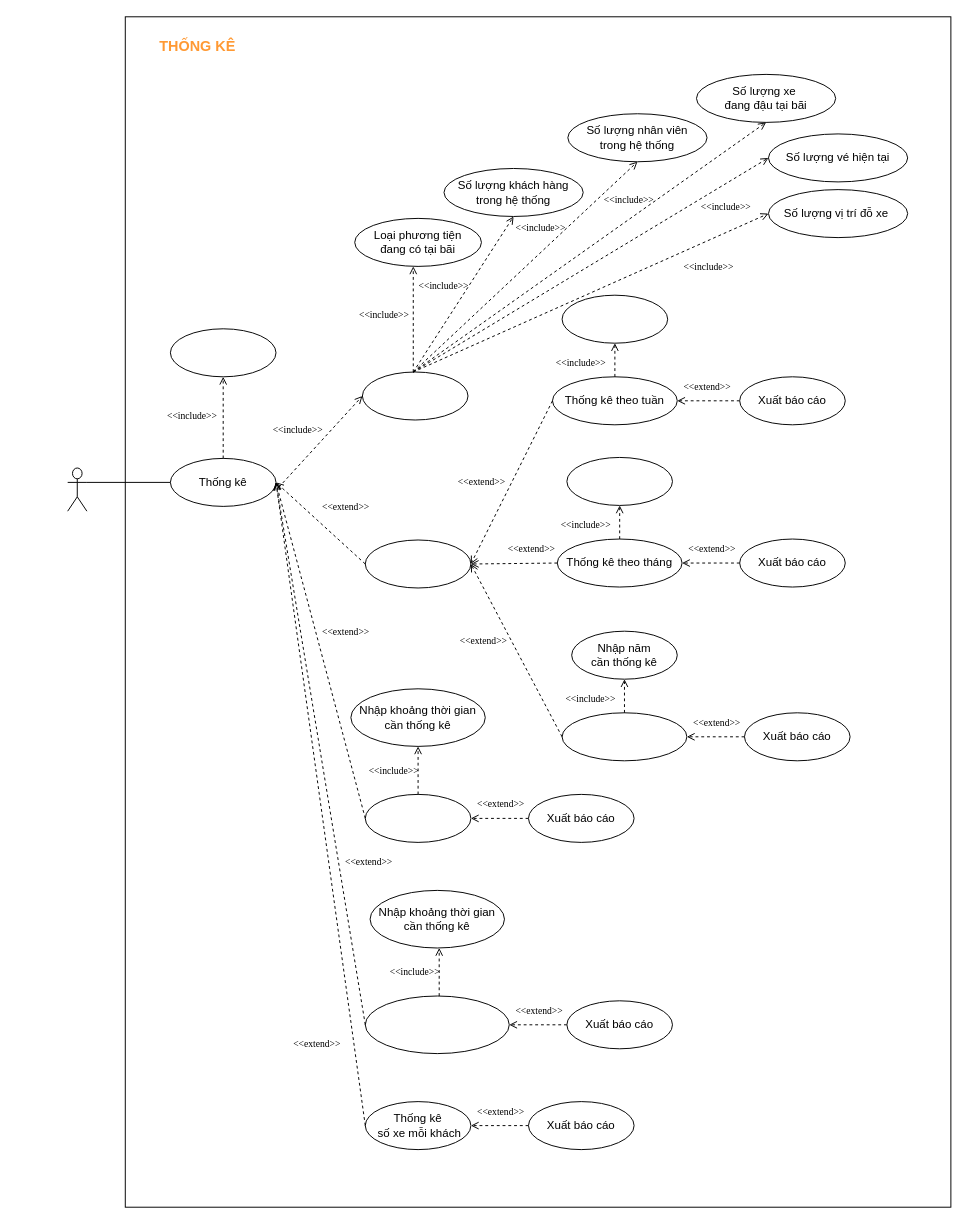
This 968x1224 diagram has some shape labels left out. The box of each missing label's shape, as (x1, y1, x2, y2) in pixels:
Admin: (67, 467, 87, 511)
Nhập tháng cần thống kê: (566, 456, 672, 505)
Nhập tuần cần thống kê: (561, 294, 668, 343)
Thống kê doanh thu: (364, 793, 471, 842)
Thống kê số khách hàng đăng ký: (364, 995, 509, 1054)
Thống kê theo năm: (561, 712, 687, 761)
Thống kê tổng quan: (361, 371, 468, 420)
Thống kê vé: (364, 539, 471, 588)
Đăng nhập: (169, 328, 276, 377)
